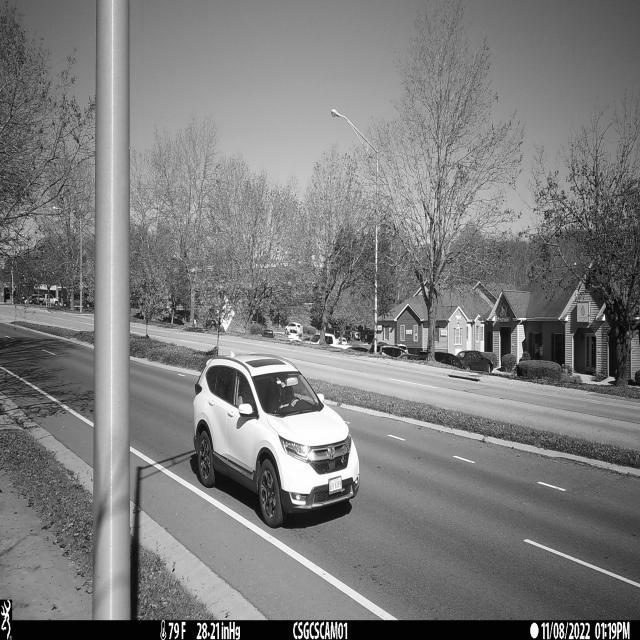SUV: (194, 355, 360, 529)
